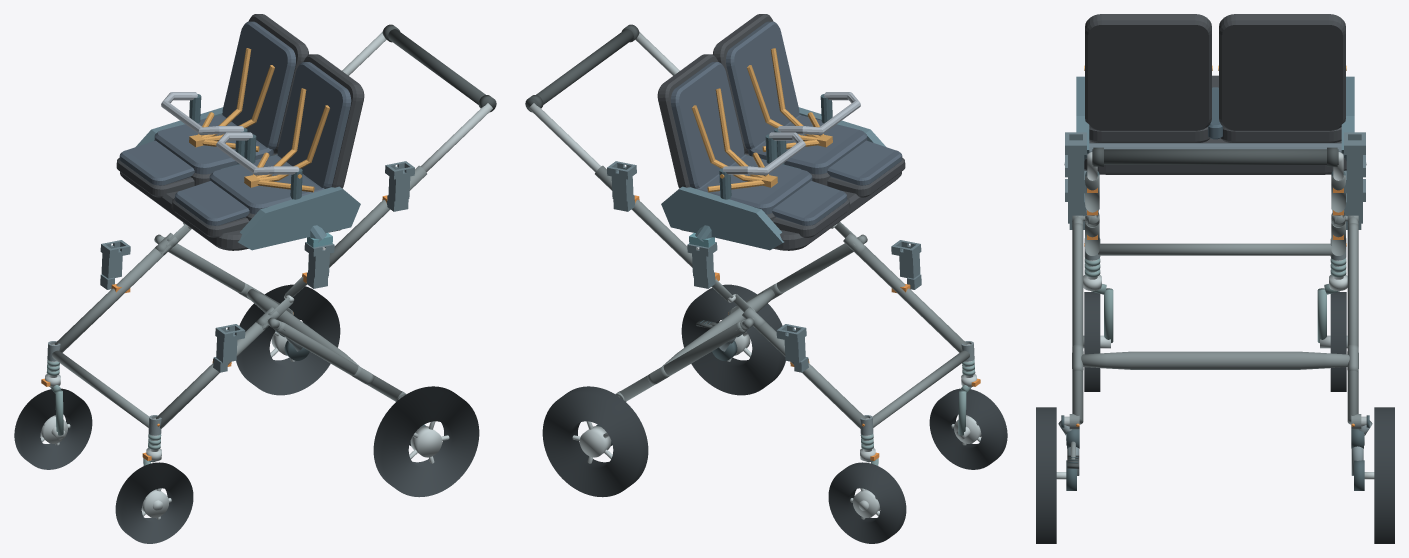
The model's file is S10_w650_state1_wheel_M.glb.
3 views of the same model, side by side, from view 1: azimuth 30°, elevation 25°; view 2: azimuth 150°, elevation 25°; view 3: azimuth 270°, elevation 25° (orthographic). The views are drawn at different scales.
Parts seen in each view (by area): view 1: S10_Cabin, RL_tire.008, RR_tire.008, FL_tire.008, FR_tire.008, main_lower_1.009, round_handle.008, V46_rear_leg_-1.009, main_lower_-1.009, front_fixed_round_tube.008, main_upper_-1.009, Universal_Cabin_Receiver_H_-1 (+7 smaller); view 2: S10_Cabin, RR_tire.008, RL_tire.008, FR_tire.008, FL_tire.008, main_lower_-1.009, round_handle.008, V46_rear_leg_1.009, main_lower_1.009, front_fixed_round_tube.008, main_upper_1.009, Universal_Cabin_Receiver_H_1 (+7 smaller); view 3: S10_Cabin, V46_rearbar.009, round_handle.008, front_fixed_round_tube.008, RL_tire.008, RR_tire.008, V46_rear_leg_1.009, V46_rear_leg_-1.009, FL_tire.008, FR_tire.008, Universal_Cabin_Receiver_H_1, Universal_Cabin_Receiver_H_-1 (+6 smaller).
Boxes of the visible parts, x1,y1,x2,y2 form: S10_Cabin: [116, 14, 364, 250]; RL_tire.008: [373, 386, 479, 497]; RR_tire.008: [236, 284, 340, 395]; FL_tire.008: [115, 462, 193, 543]; FR_tire.008: [14, 388, 92, 469]; main_lower_1.009: [54, 245, 171, 352]; round_handle.008: [388, 29, 495, 110]; V46_rear_leg_-1.009: [276, 321, 401, 401]; main_lower_-1.009: [156, 322, 267, 428]; front_fixed_round_tube.008: [52, 350, 149, 427]; main_upper_-1.009: [329, 165, 426, 267]; Universal_Cabin_Receiver_H_-1: [385, 161, 414, 211]; S10_Cabin: [657, 14, 905, 250]; RR_tire.008: [542, 386, 648, 497]; RL_tire.008: [681, 284, 785, 395]; FR_tire.008: [828, 462, 906, 543]; FL_tire.008: [929, 388, 1007, 469]; main_lower_-1.009: [850, 245, 967, 352]; round_handle.008: [526, 29, 633, 110]; V46_rear_leg_1.009: [620, 321, 745, 401]; main_lower_1.009: [754, 322, 865, 428]; front_fixed_round_tube.008: [872, 350, 969, 427]; main_upper_1.009: [595, 165, 692, 267]; Universal_Cabin_Receiver_H_1: [607, 161, 636, 211]; S10_Cabin: [1076, 14, 1354, 174]; V46_rearbar.009: [1081, 351, 1349, 369]; round_handle.008: [1092, 149, 1338, 164]; front_fixed_round_tube.008: [1098, 243, 1332, 255]; RL_tire.008: [1036, 407, 1056, 543]; RR_tire.008: [1374, 407, 1394, 543]; V46_rear_leg_1.009: [1347, 223, 1358, 424]; V46_rear_leg_-1.009: [1072, 223, 1083, 424]; FL_tire.008: [1084, 292, 1100, 391]; FR_tire.008: [1330, 292, 1346, 391]; Universal_Cabin_Receiver_H_1: [1344, 132, 1365, 193]; Universal_Cabin_Receiver_H_-1: [1065, 132, 1086, 193].
Bounding box in the file's own units: 1.16 × 1.19 × 0.7871.
